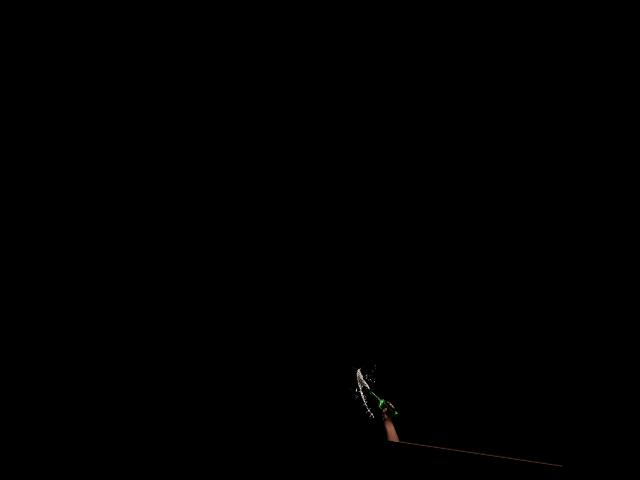beer: (366, 390, 401, 419)
